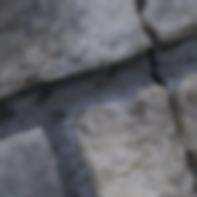brick: (0, 128, 63, 196)
broken_brick: (0, 0, 150, 102), (74, 84, 194, 196), (147, 0, 196, 47), (173, 73, 196, 153)
crack: (135, 0, 196, 196)
